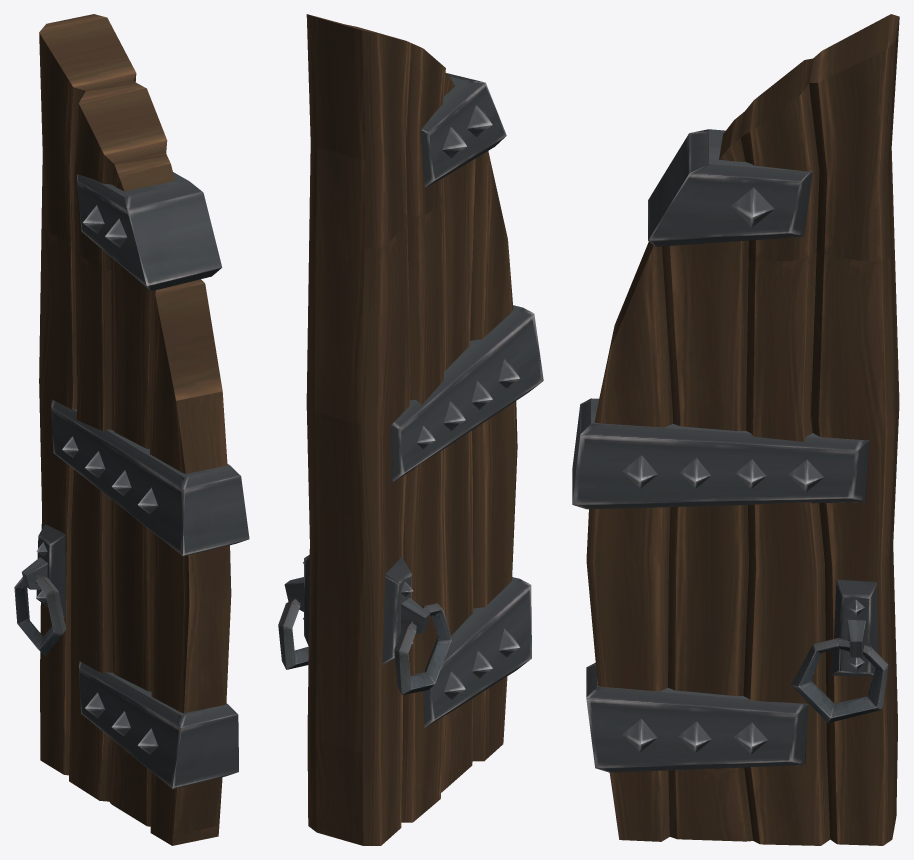
File: A_CA_GEN_DoorLeft_01.fbx
3 views of the same model, side by side, from view 1: azimuth 30°, elevation 25°; view 2: azimuth 150°, elevation 25°; view 3: azimuth 270°, elevation 25° (orthographic). The views are drawn at different scales.
Parts seen in each view (by area): view 1: A_CA_GEN_DoorLeft_01; view 2: A_CA_GEN_DoorLeft_01; view 3: A_CA_GEN_DoorLeft_01.
Part boxes in pixels (<box>): A_CA_GEN_DoorLeft_01: <box>14,14,249,845</box>; A_CA_GEN_DoorLeft_01: <box>278,14,543,845</box>; A_CA_GEN_DoorLeft_01: <box>572,14,899,845</box>.
Size of the model in its own units: 184 by 1015 by 376.
Materials: 1 (1 with a texture image).
